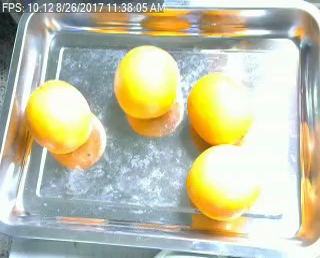Orange: (185, 143, 262, 220), (187, 73, 255, 145), (24, 79, 91, 152), (114, 44, 180, 118)
